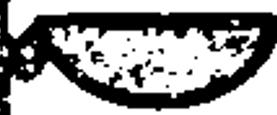Basket: (11, 9, 277, 109)
